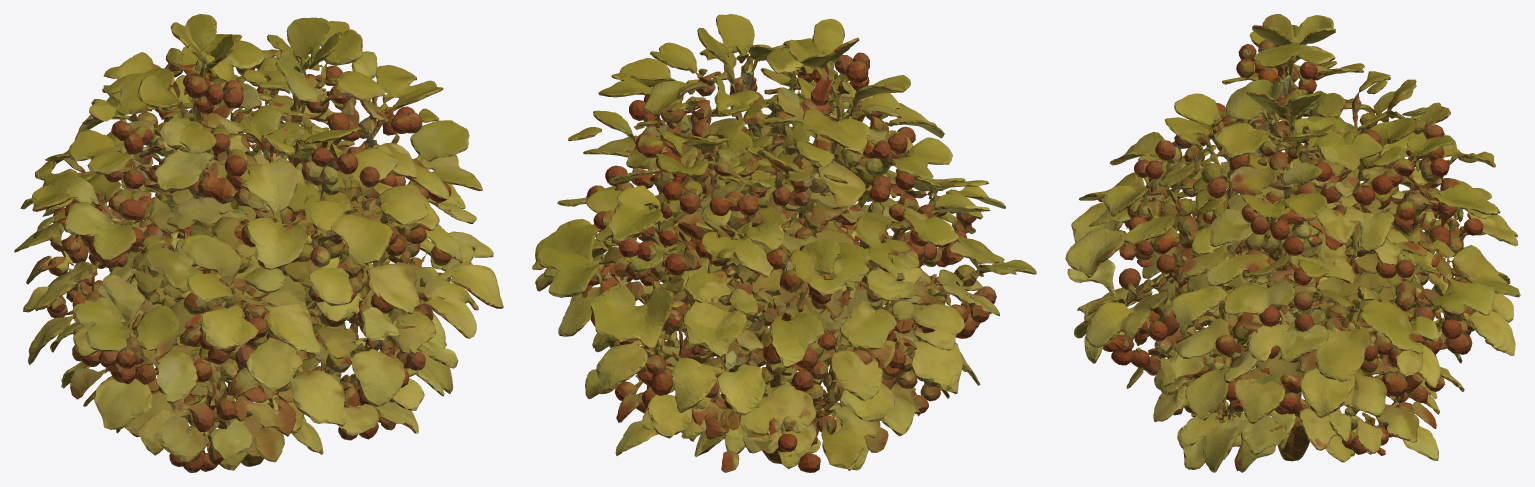
Rendered from prop-berry_bush.glb.
3 renders of one model, left to right at view 1: azimuth 30°, elevation 25°; view 2: azimuth 150°, elevation 25°; view 3: azimuth 270°, elevation 25°, orthographic. The views are drawn at different scales.
Parts seen in each view (by area): view 1: geometry_0; view 2: geometry_0; view 3: geometry_0.
Boxes of the visible parts, bbox=[...] form: geometry_0: bbox=[14, 14, 503, 472]; geometry_0: bbox=[532, 14, 1036, 472]; geometry_0: bbox=[1065, 14, 1520, 472].
Bounding box in the file's own units: 1.99 × 2 × 1.97.
1 material, 1 textured.
